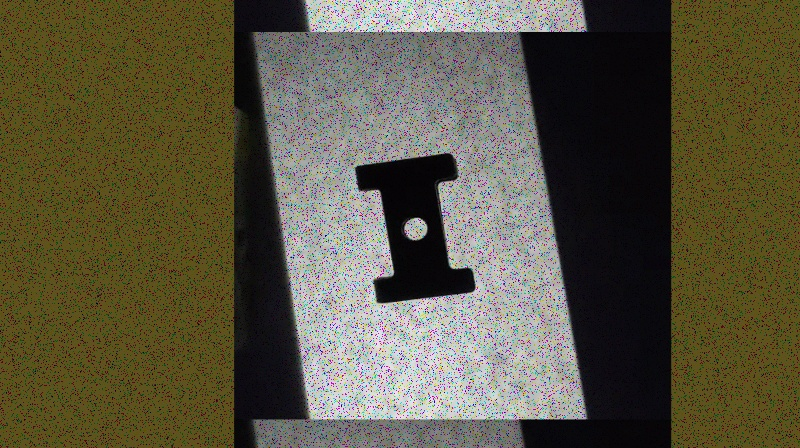O002: (354, 152, 477, 307)
